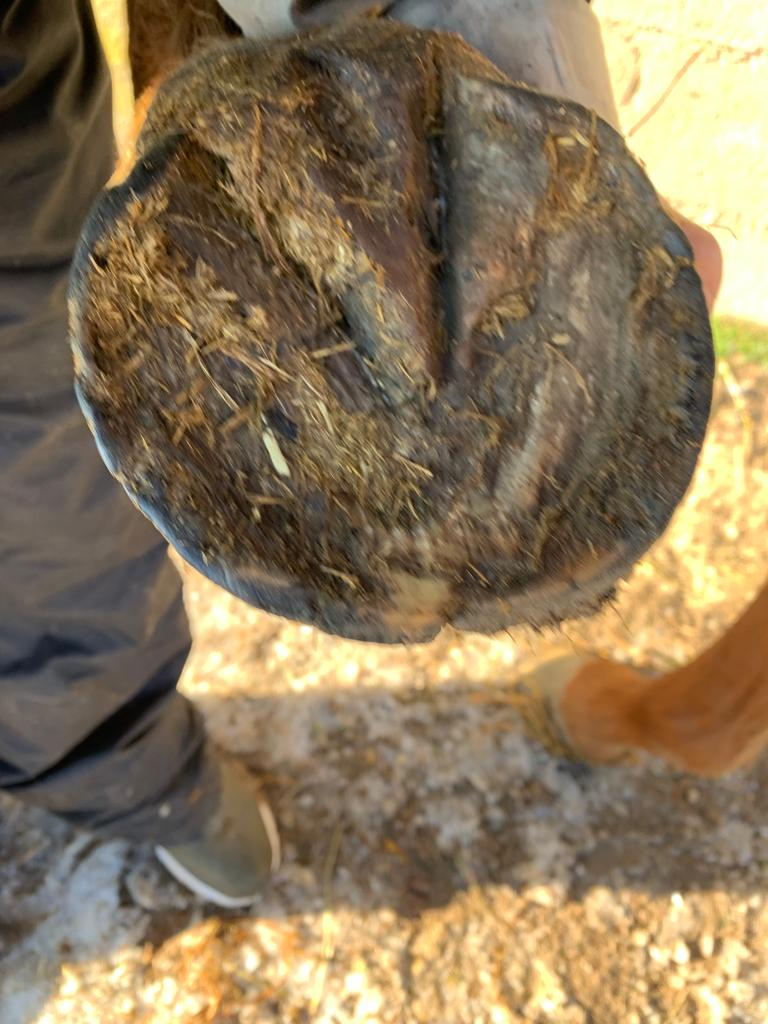horsesole: (69, 55, 715, 643)
